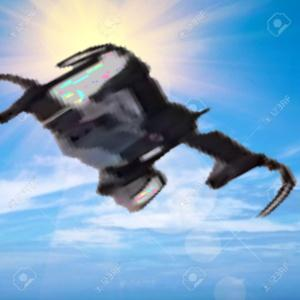drone: (3, 3, 280, 280)
